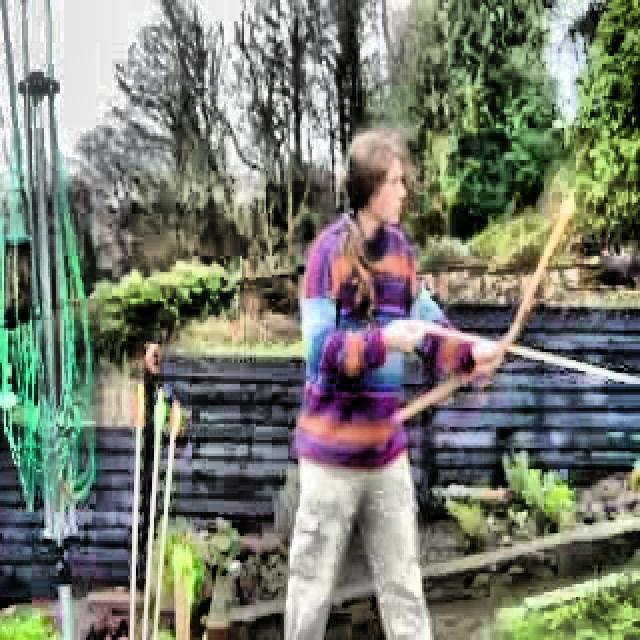I: (269, 107, 494, 640)
